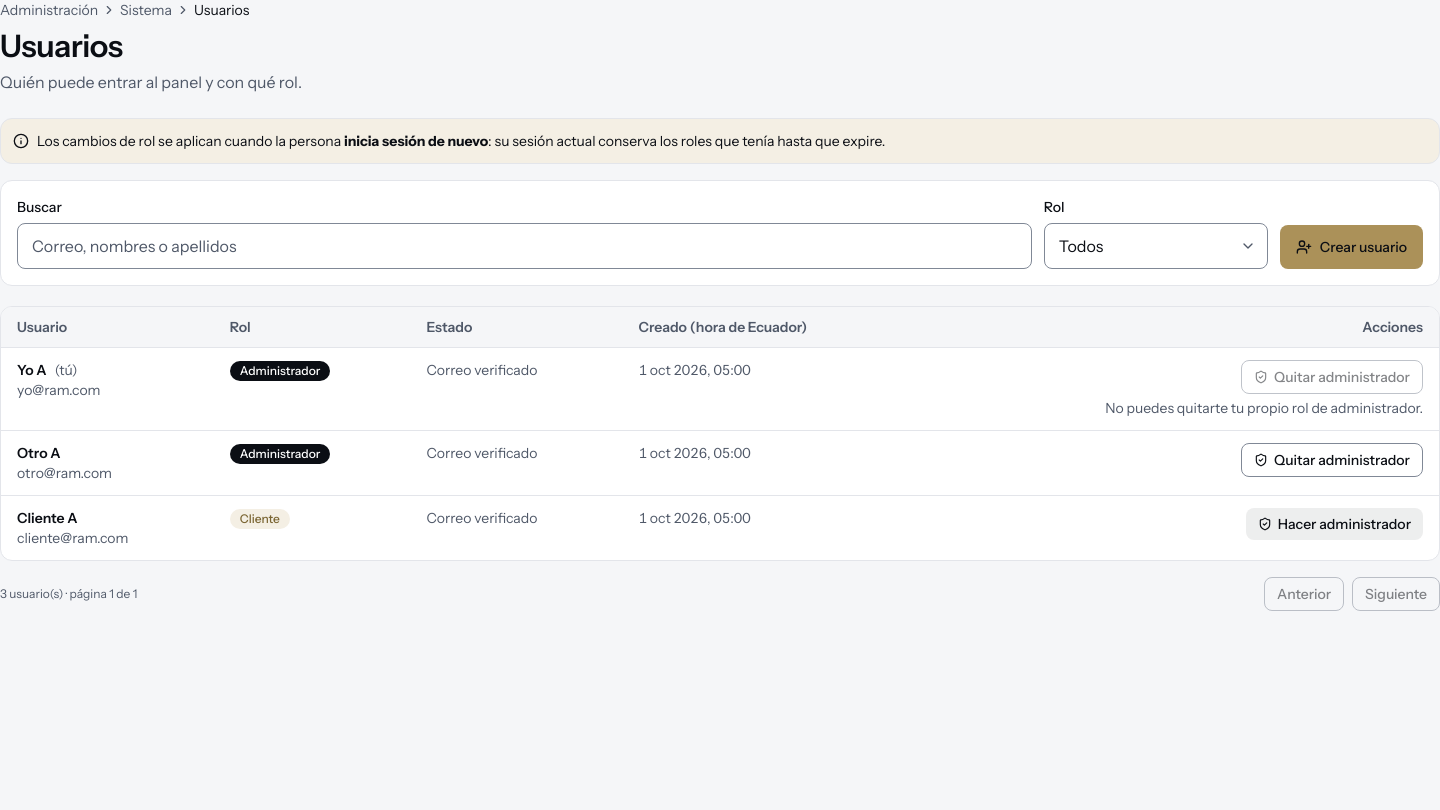
Test: AdminUsersPage › promotes a customer after confirming, sending both roles
Click the button "Hacer administrador".
click(1334, 524)  # box [1246,508,1423,540]
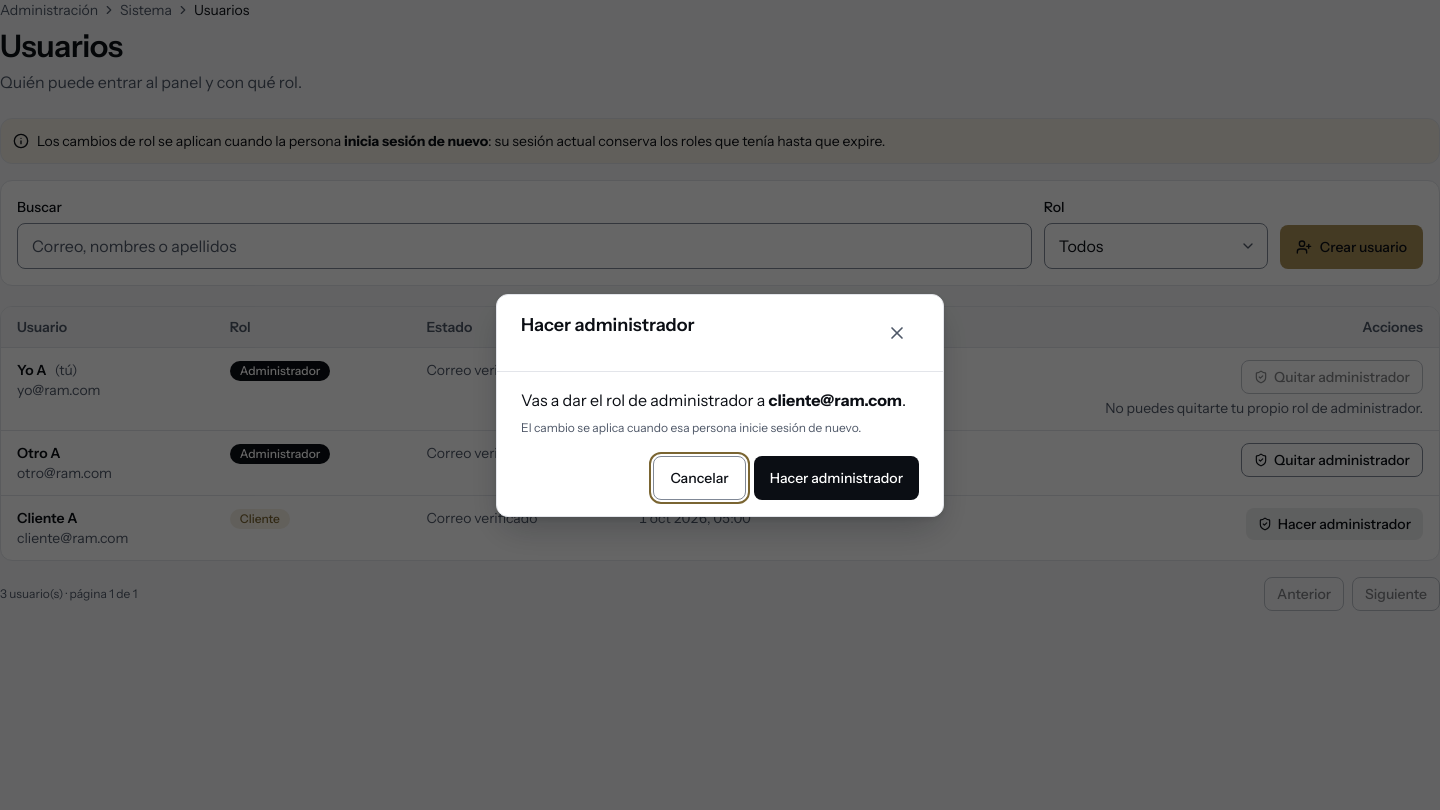
Click the button "Hacer administrador".
click(836, 478)  # box [754,456,919,500]
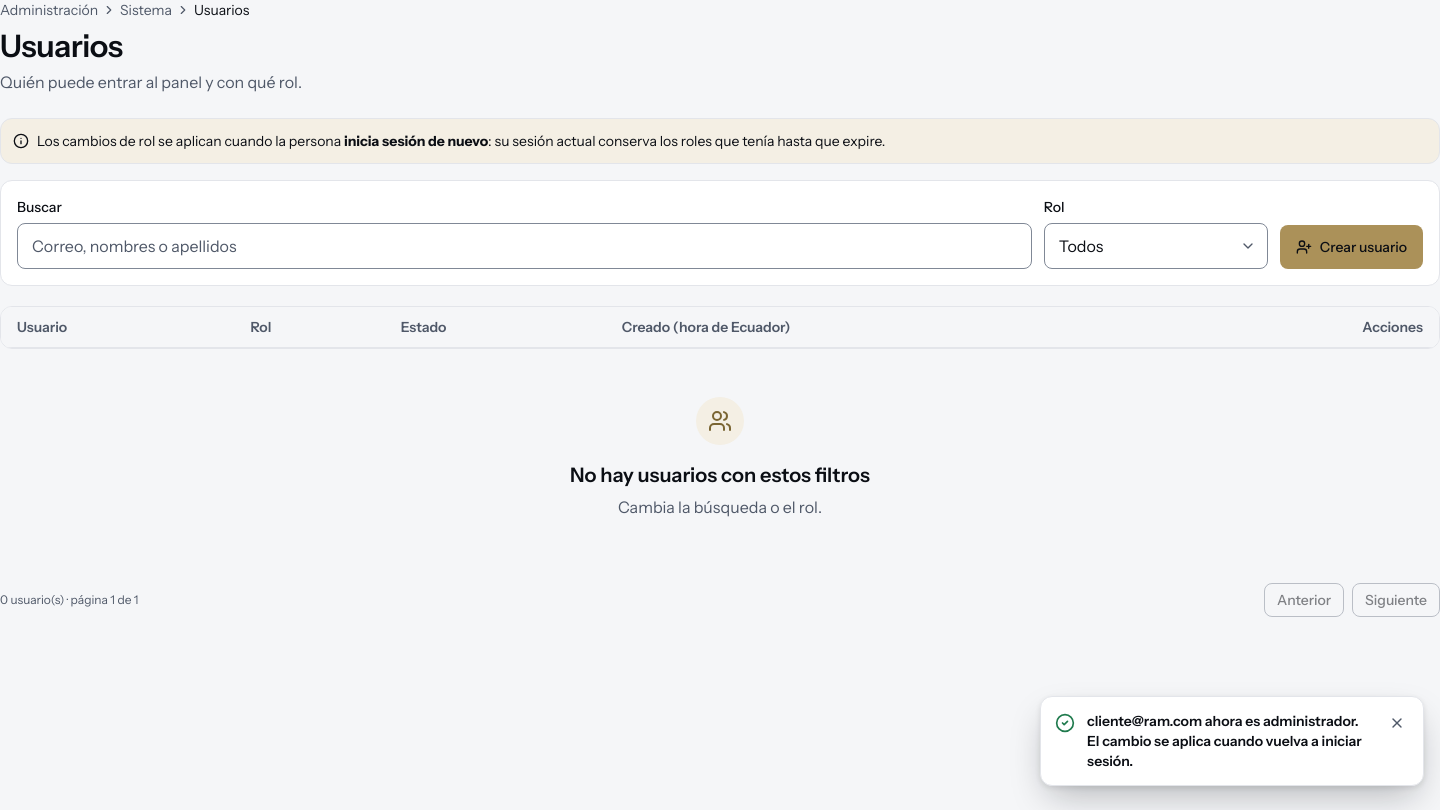
Check: the text "ahora es administrador" is shown, box [1087,712,1362,770]
